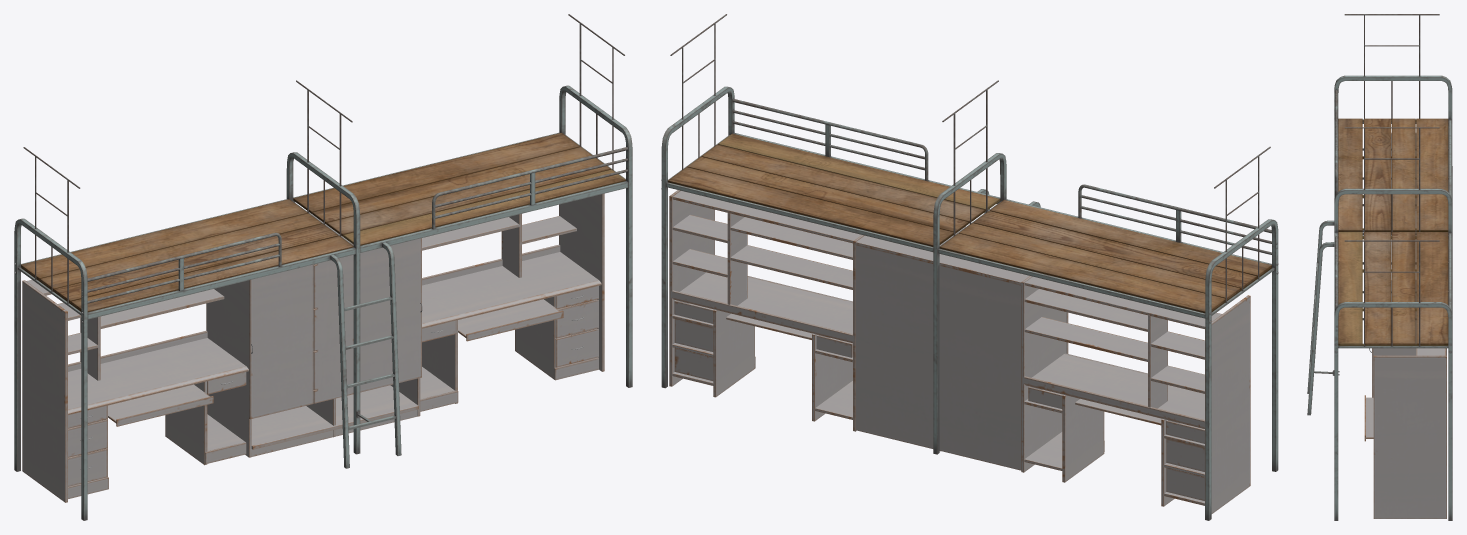
Rendered from bunk_bed.glb.
The picture shows the model from 3 angles, left to right: view 1: azimuth 30°, elevation 25°; view 2: azimuth 150°, elevation 25°; view 3: azimuth 270°, elevation 25°; orthographic projection. The views are drawn at different scales.
Visible parts, largest first — view 1: group10, polySurface46, group7; view 2: group10, polySurface46, group7; view 3: polySurface46, group10, group7.
Part boxes in pixels (<box>): group10: <box>22,193,604,502</box>; polySurface46: <box>21,133,625,311</box>; group7: <box>14,14,632,520</box>; group10: <box>669,190,1250,513</box>; polySurface46: <box>668,133,1271,313</box>; group7: <box>661,14,1278,520</box>; polySurface46: <box>1338,118,1448,345</box>; group10: <box>1364,132,1446,518</box>; group7: <box>1307,14,1452,520</box>.
Size of the model in its own units: 0.1821 by 0.1039 by 0.0488.
Materials: 1 (1 with a texture image).
